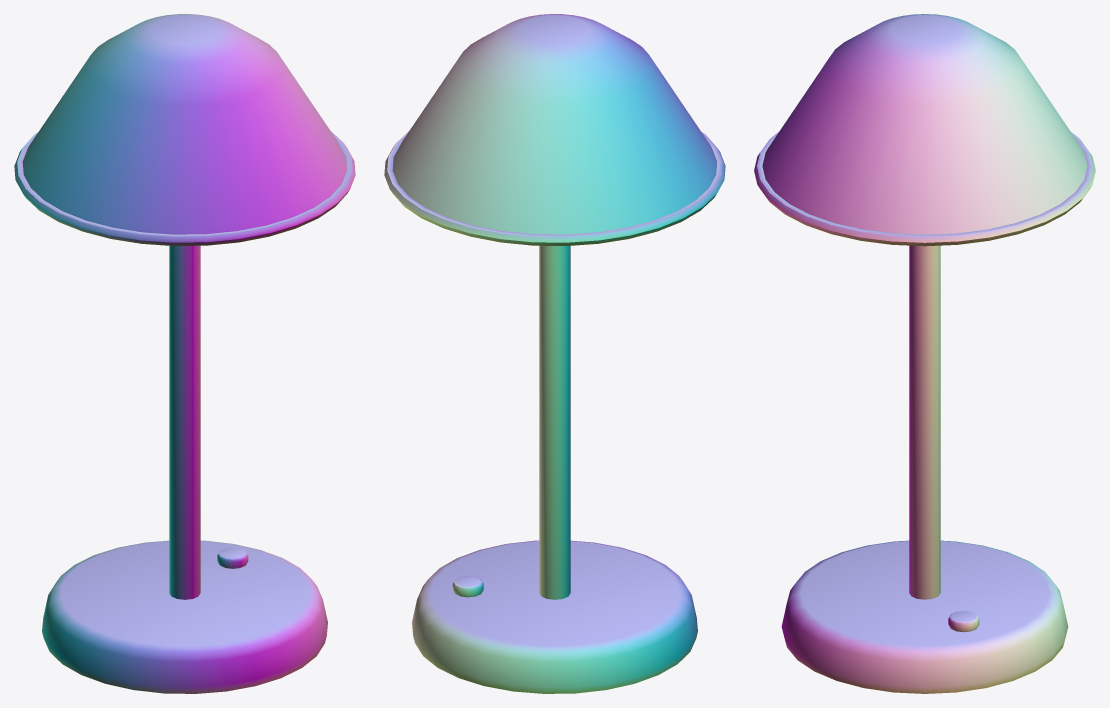
Rendered from prop_lamp.glb.
3 views of the same model, side by side, from view 1: azimuth 30°, elevation 25°; view 2: azimuth 150°, elevation 25°; view 3: azimuth 270°, elevation 25° (orthographic).
Visible parts, largest first — view 1: prop_lamp_mesh; view 2: prop_lamp_mesh; view 3: prop_lamp_mesh.
Part boxes in pixels (x1,y1,x2,y2): prop_lamp_mesh: (14, 14, 355, 693); prop_lamp_mesh: (384, 14, 725, 693); prop_lamp_mesh: (754, 14, 1095, 693).
Bounding box in the file's own units: 0.352 × 0.69 × 0.352.
